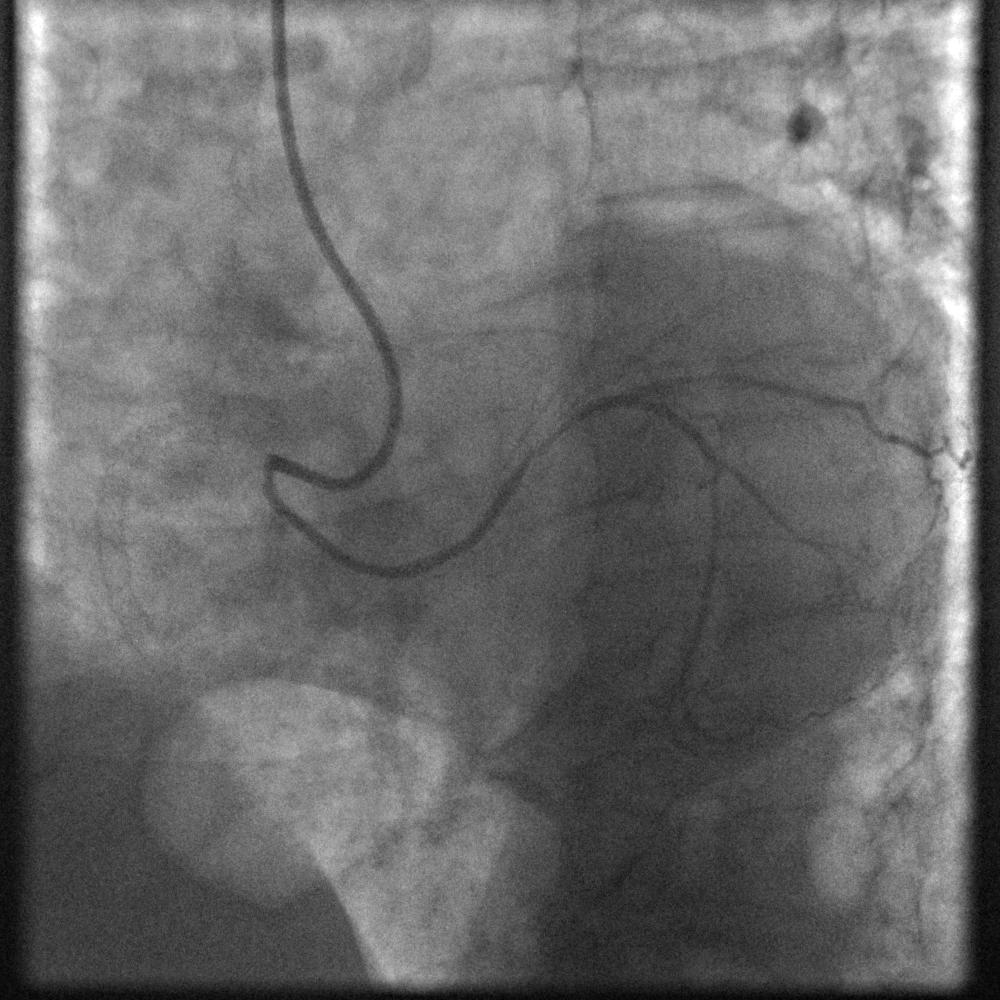Stenosis: (522, 411, 574, 472)
